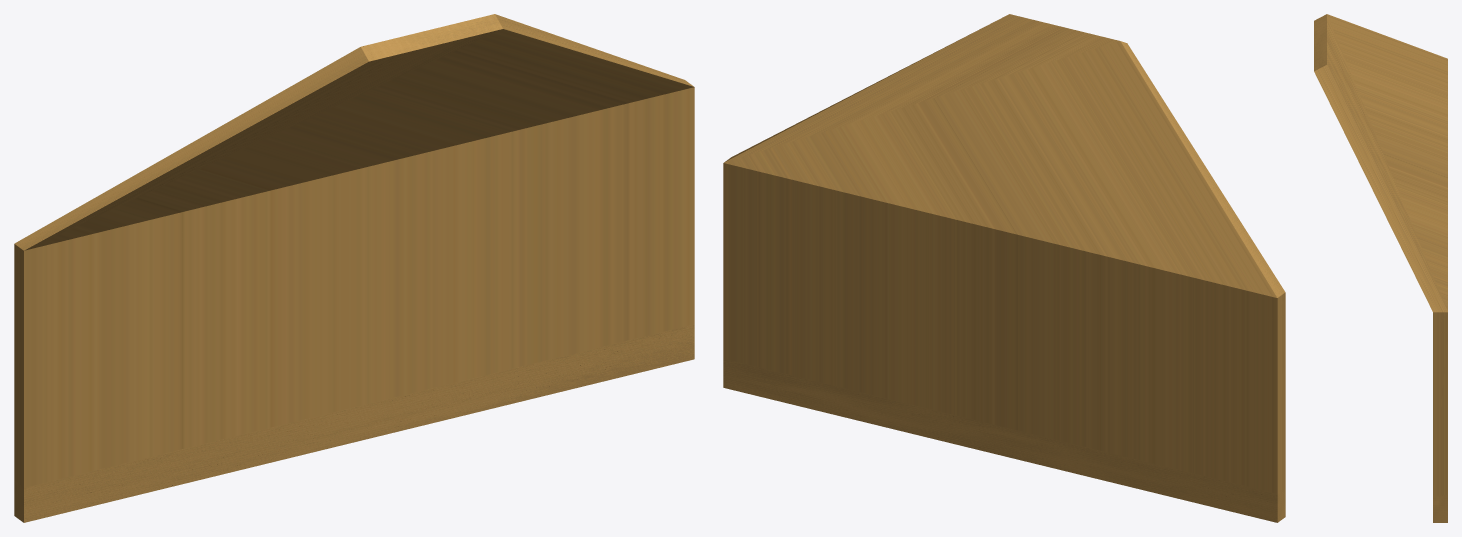
Rendered from box_right.glb.
3 renders of one model, left to right at view 1: azimuth 30°, elevation 25°; view 2: azimuth 150°, elevation 25°; view 3: azimuth 270°, elevation 25°, orthographic. The views are drawn at different scales.
Parts seen in each view (by area): view 1: Right; view 2: Right; view 3: Right.
Boxes of the visible parts, x1=… form: Right: x1=14, y1=14, x2=694, y2=522; Right: x1=723, y1=14, x2=1285, y2=522; Right: x1=1314, y1=14, x2=1447, y2=522.
Bounding box in the file's own units: 10 × 6.56 × 2.23.
1 material, 1 textured.
